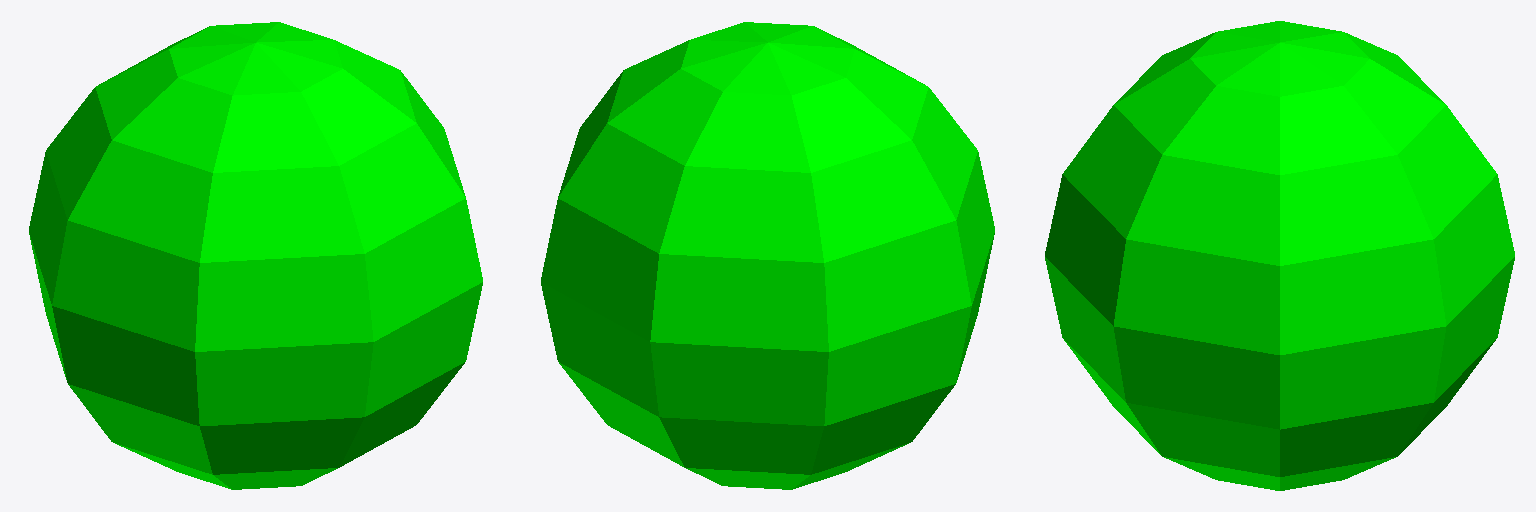
The model's file is sphere_centered.obj.
3 renders of one model, left to right at view 1: azimuth 30°, elevation 25°; view 2: azimuth 150°, elevation 25°; view 3: azimuth 270°, elevation 25°, orthographic.
Visible parts, largest first — view 1: sphere; view 2: sphere; view 3: sphere.
Boxes of the visible parts, box(x1,y1,x2,y2) form: sphere: box(29, 22, 482, 489); sphere: box(541, 22, 994, 489); sphere: box(1045, 21, 1514, 490).
Size of the model in its own units: 2 by 2 by 2.